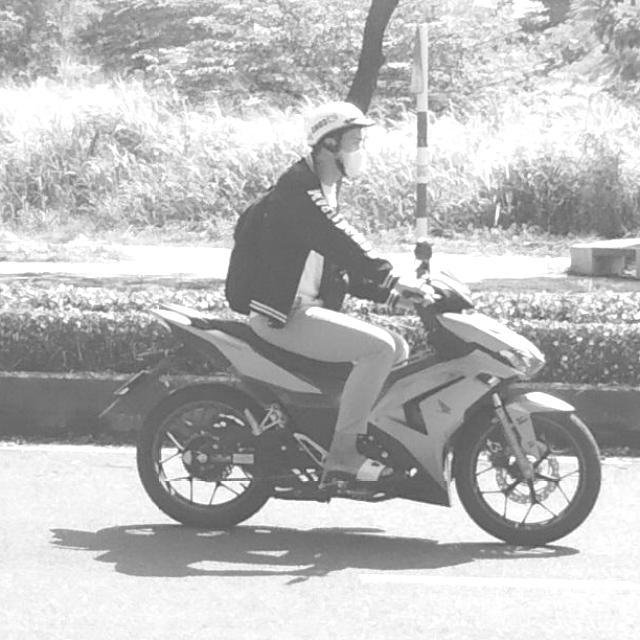Helmet: (304, 99, 369, 185)
